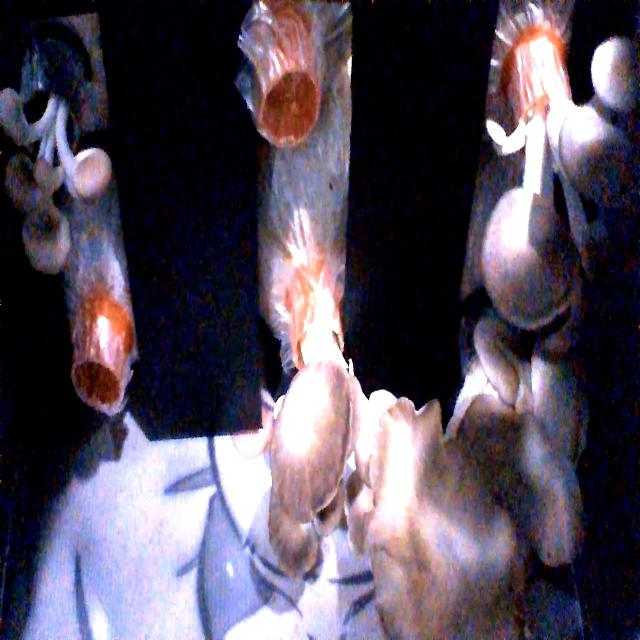big: (352, 320, 575, 640), (470, 30, 640, 318), (255, 342, 372, 572)
nfound: (255, 50, 326, 144), (68, 354, 130, 424)
small: (0, 68, 124, 277)
